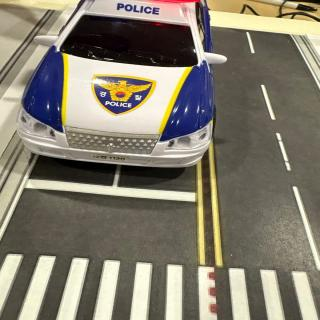Police_car: (17, 0, 227, 167)
